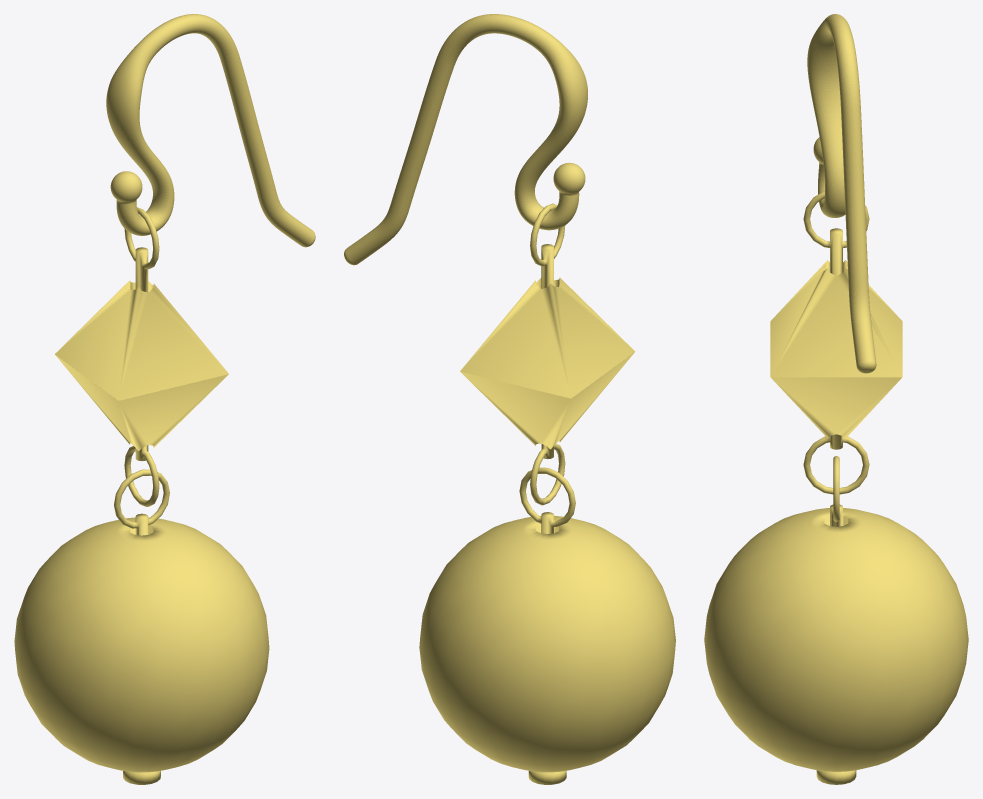
The model's file is golden_ball_crystal_diamond_drop_earrings.54f04ed07d.glb.
3 renders of one model, left to right at view 1: azimuth 30°, elevation 25°; view 2: azimuth 150°, elevation 25°; view 3: azimuth 270°, elevation 25°, orthographic. The views are drawn at different scales.
Parts seen in each view (by area): view 1: EARRING2, Hook for earring; view 2: EARRING2, Hook for earring; view 3: EARRING2, Hook for earring.
Boxes of the visible parts, bbox=[...] form: EARRING2: bbox=[14, 207, 269, 784]; Hook for earring: bbox=[106, 14, 315, 247]; EARRING2: bbox=[419, 203, 675, 784]; Hook for earring: bbox=[344, 14, 587, 265]; EARRING2: bbox=[704, 191, 968, 784]; Hook for earring: bbox=[807, 14, 876, 373].
Bounding box in the file's own units: 320 × 770 × 239.
